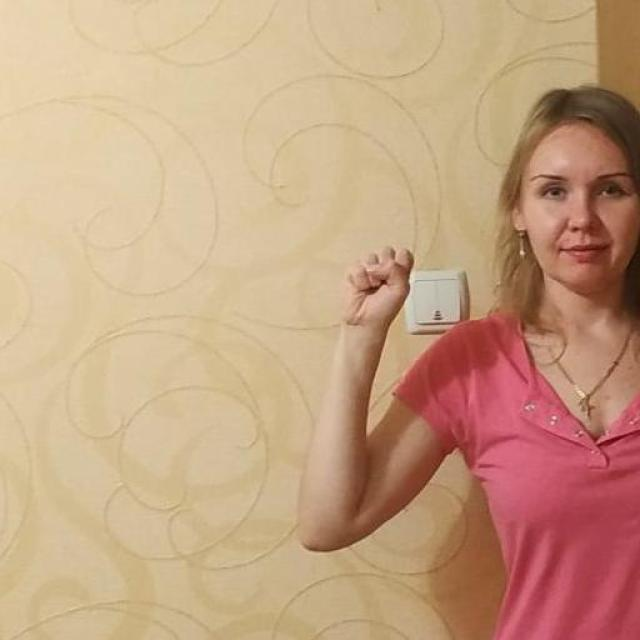hand: (340, 244, 414, 331)
